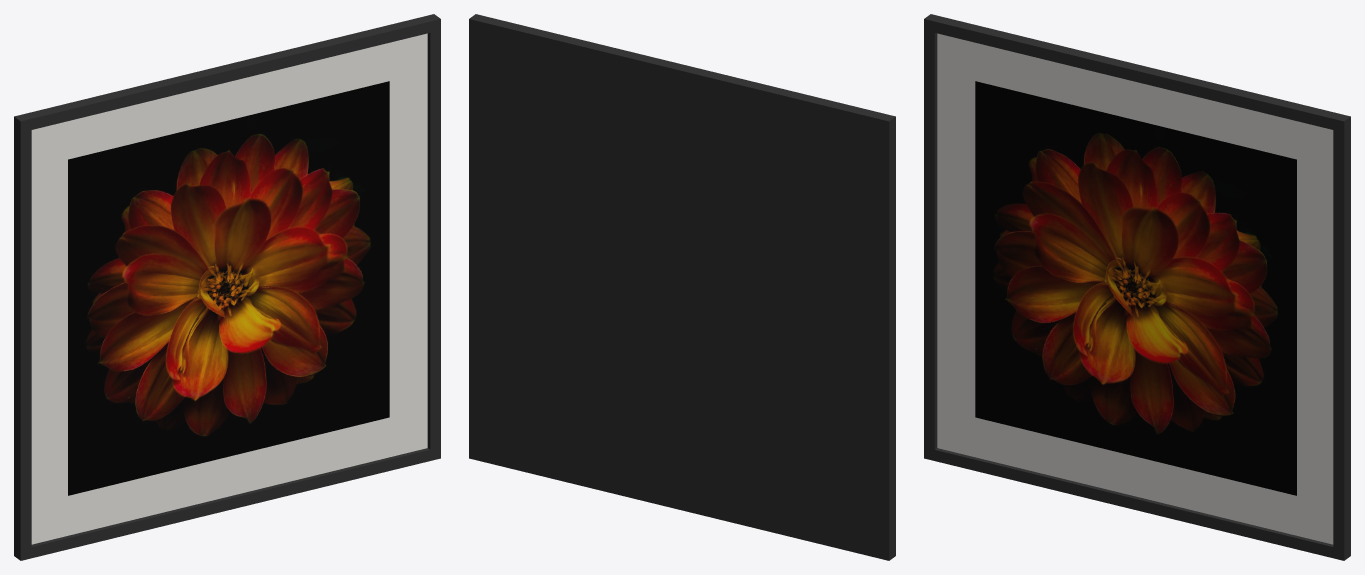
The model's file is dahlian-60.gltf.
3 renders of one model, left to right at view 1: azimuth 30°, elevation 25°; view 2: azimuth 150°, elevation 25°; view 3: azimuth 330°, elevation 25°, orthographic.
Parts seen in each view (by area): view 1: tavla; view 2: tavla; view 3: tavla.
Boxes of the visible parts, x1,y1,x2,y2 form: tavla: (14, 14, 440, 560); tavla: (469, 14, 895, 560); tavla: (924, 14, 1350, 560).
Size of the model in its own units: 0.7839 by 0.7835 by 0.022.
3 materials, 1 textured.
